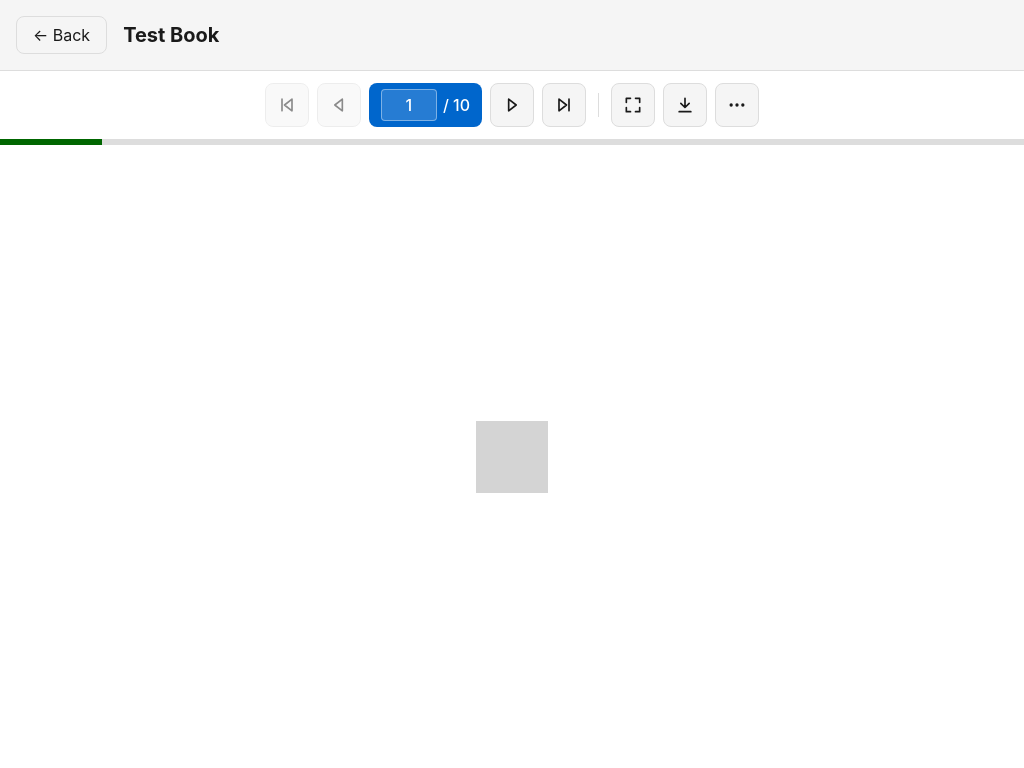
Test: ReaderPage actions menu › should close the menu when clicking outside
The width and height of the screenshot is (1024, 768).
Click the button named "More actions": (737, 105) [715,83,759,127]
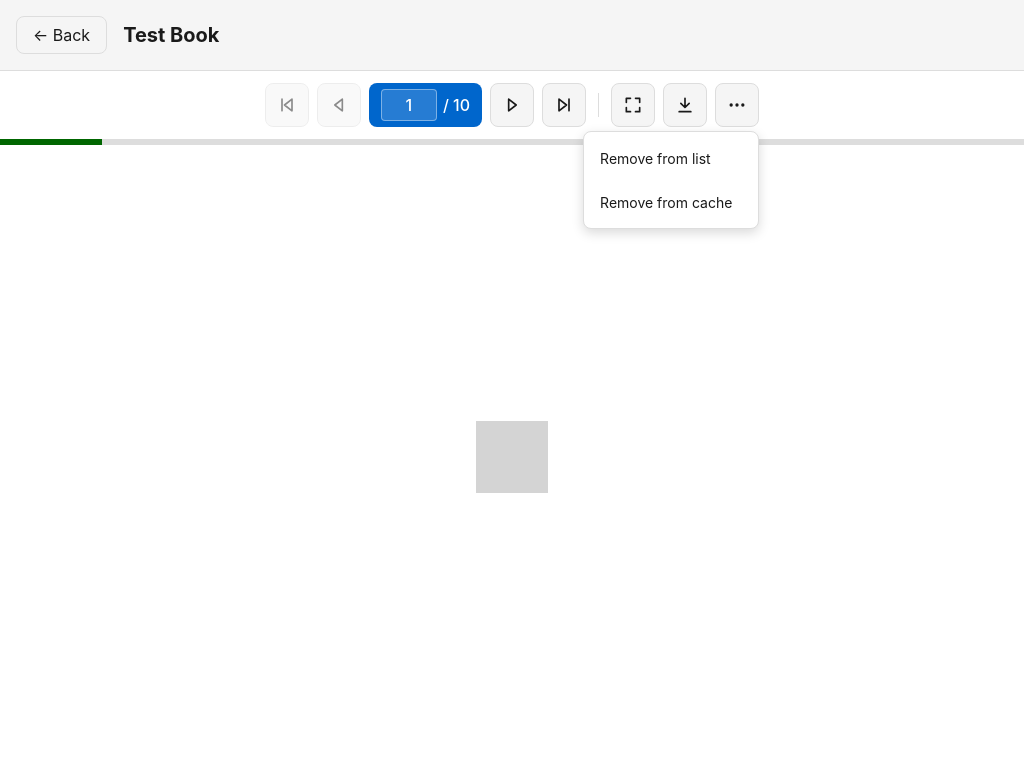
Expected: the menu is shown, [583,131,759,229]
Press the mouse on the element showing "← Back Test Book / 10 Remove from list Remove from cache": (512, 384) [0,0,1023,767]
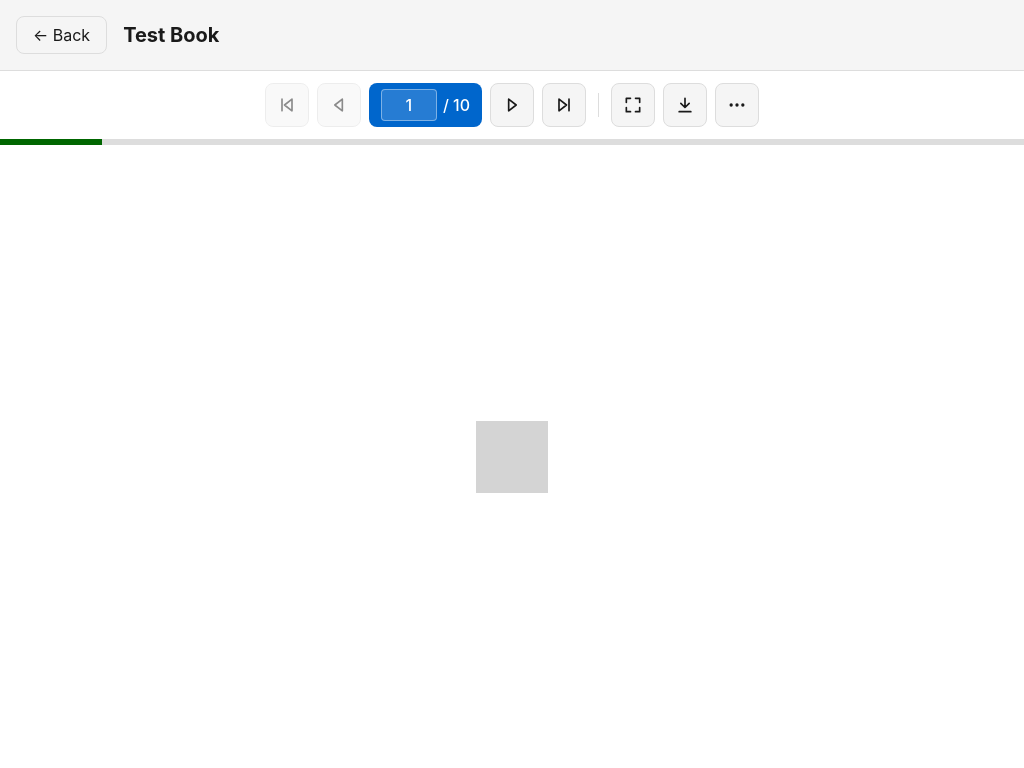
Expected: the menu is gone
